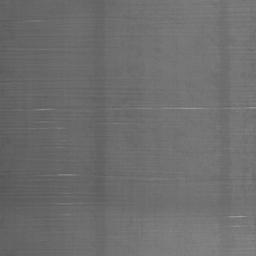Waist folding: (83, 87, 256, 111), (0, 95, 88, 131), (41, 172, 186, 182), (228, 214, 256, 228), (214, 45, 256, 52), (0, 18, 46, 24), (18, 47, 62, 52), (215, 180, 256, 185), (56, 201, 84, 206), (214, 71, 256, 74)
